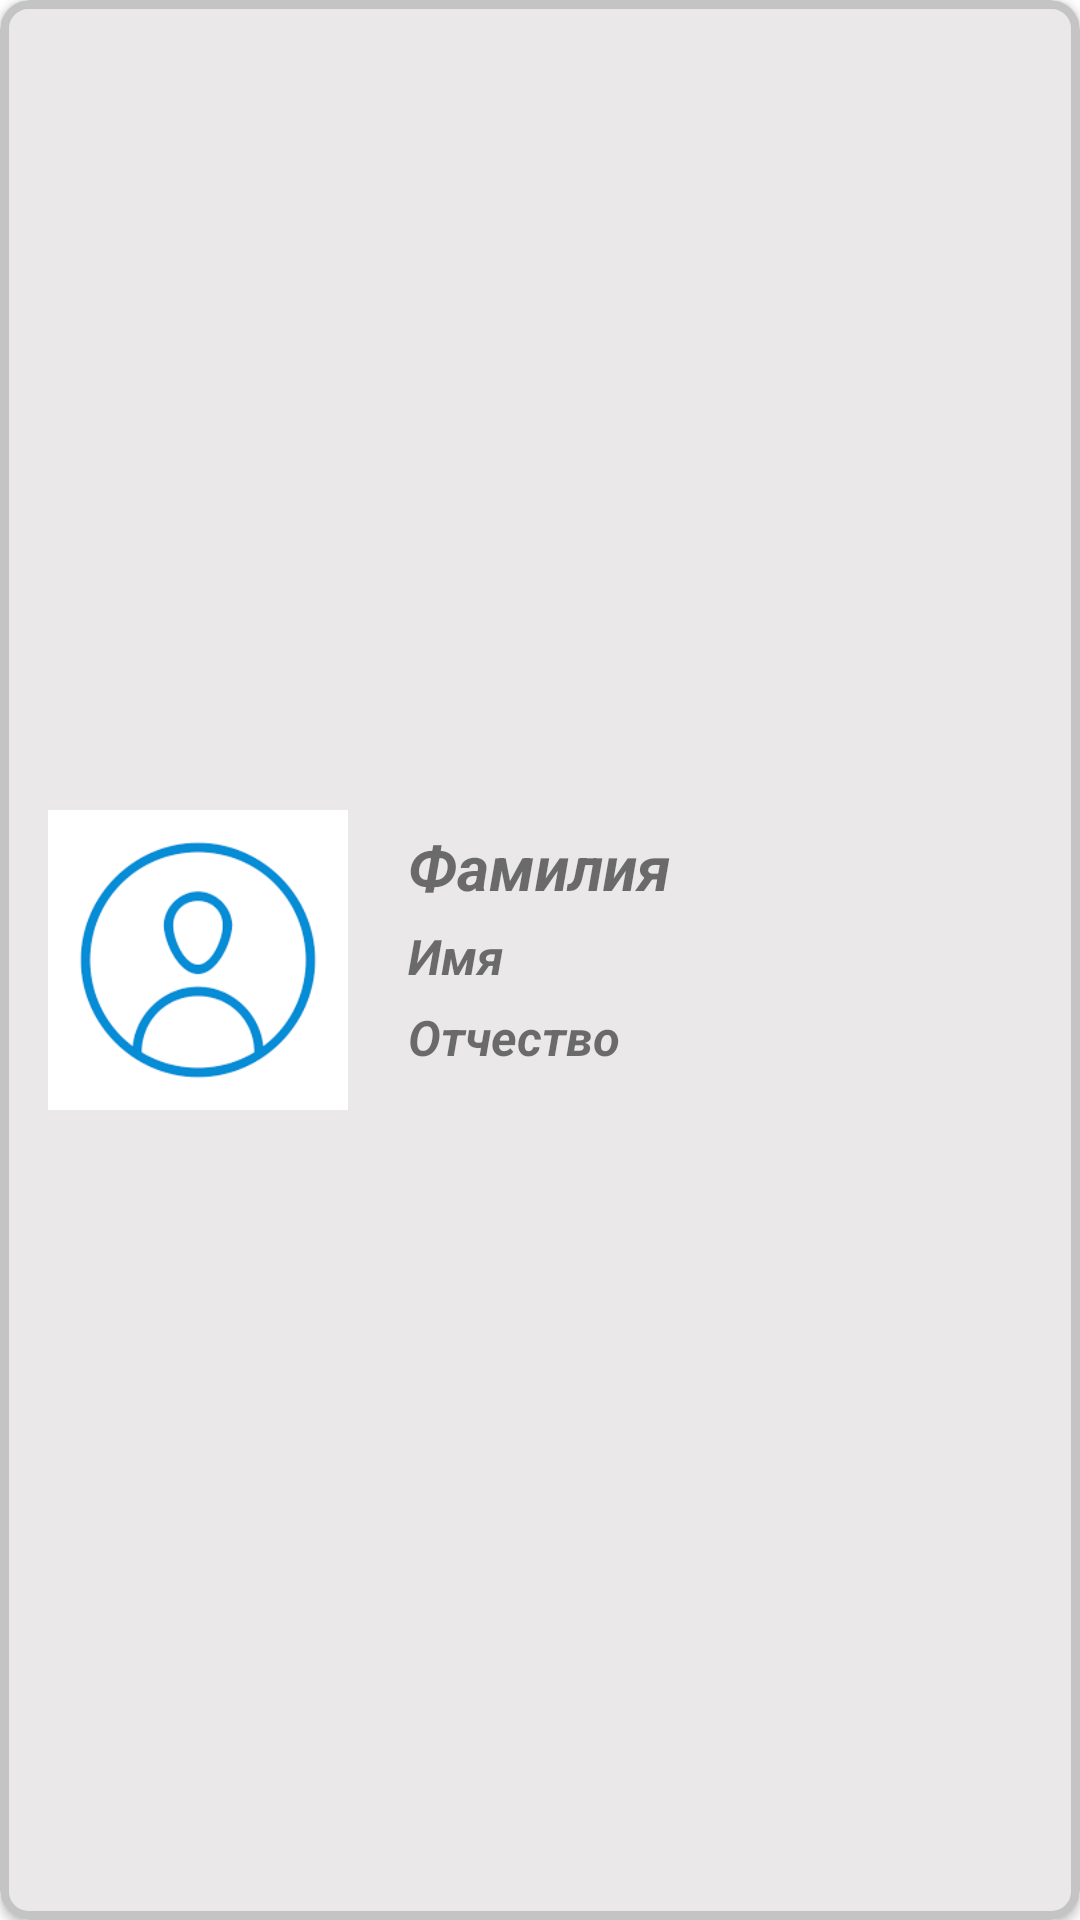

Where to tap for icons on this 1080 × 1920 app screen, as (x,y):
person: (198,960)
